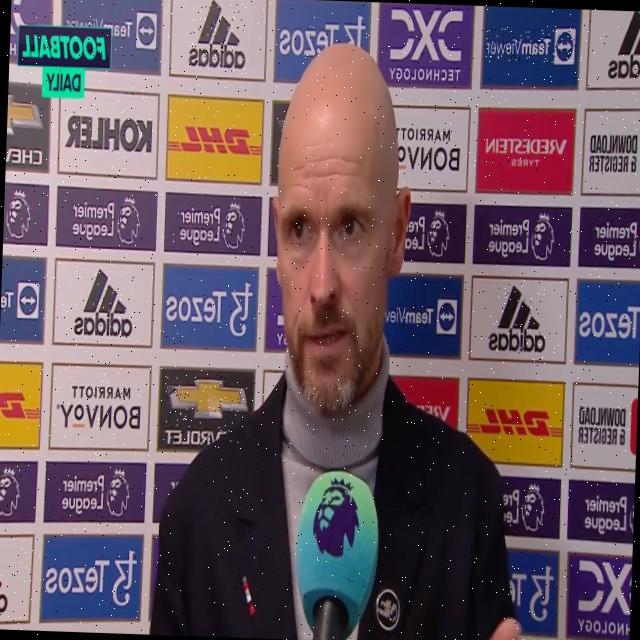Adidas: (73, 266, 135, 340), (187, 0, 248, 73), (487, 282, 547, 354)
Chevrolet: (162, 375, 246, 450)
Kohler: (64, 110, 154, 156)
TeamViewer: (483, 27, 575, 63)
